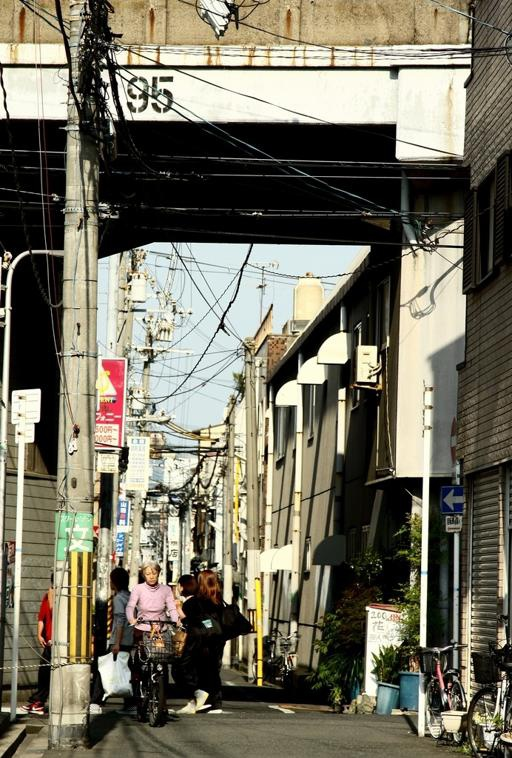non-vehicle: (129, 617, 180, 727), (414, 642, 466, 747), (466, 641, 511, 757), (251, 628, 299, 683)
